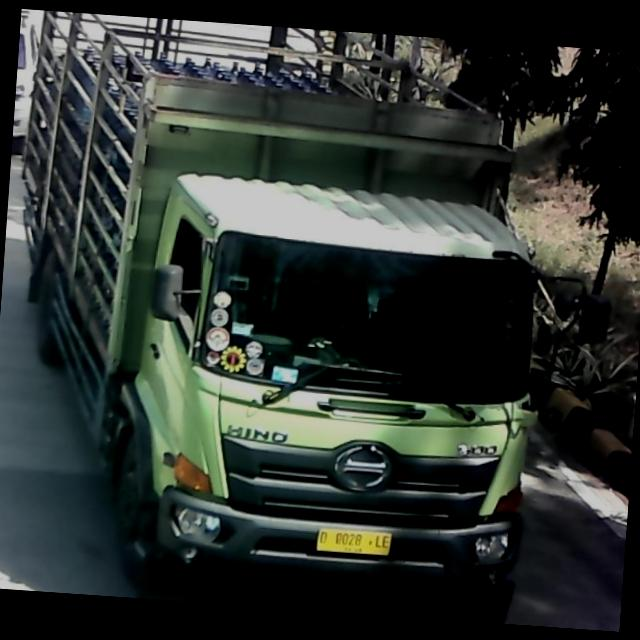plate: (316, 526, 396, 560)
